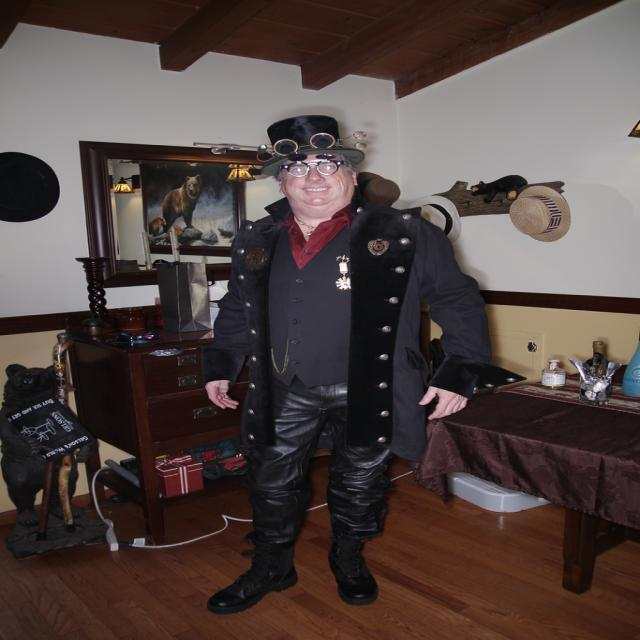Bear: (160, 176, 206, 232)
